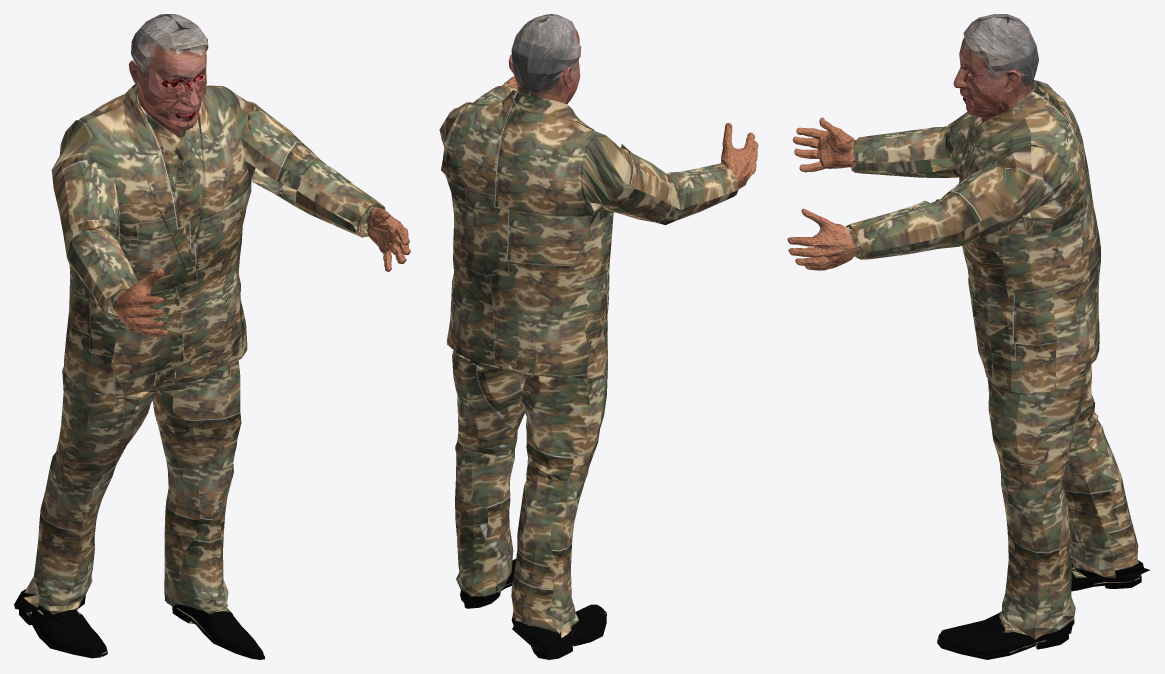
File: zombie_000046.obj
The picture shows the model from 3 angles, left to right: view 1: azimuth 30°, elevation 25°; view 2: azimuth 150°, elevation 25°; view 3: azimuth 270°, elevation 25°; orthographic projection. The views are drawn at different scales.
Visible parts, largest first — view 1: Suit_coat_orig_9___De, objGeo_Hea_orig_9___D; view 2: Suit_coat_orig_9___De, objGeo_Hea_orig_9___D; view 3: Suit_coat_orig_9___De, objGeo_Hea_orig_9___D.
Boxes of the visible parts, <box> form: Suit_coat_orig_9___De: <box>14,84,410,659</box>; objGeo_Hea_orig_9___D: <box>128,14,208,137</box>; Suit_coat_orig_9___De: <box>439,76,758,659</box>; objGeo_Hea_orig_9___D: <box>508,14,581,104</box>; Suit_coat_orig_9___De: <box>787,80,1149,659</box>; objGeo_Hea_orig_9___D: <box>953,14,1038,122</box>.
Size of the model in its own units: 0.8671 by 1.89 by 1.02.
